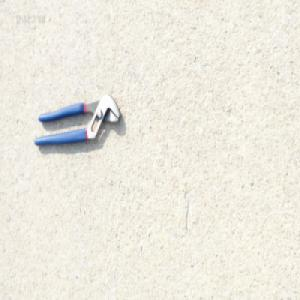Pliers: (33, 91, 121, 148)
